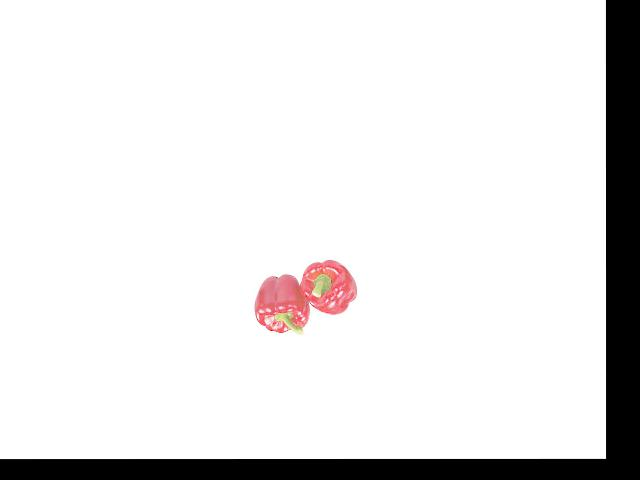bell_pepper: (252, 269, 311, 336)
